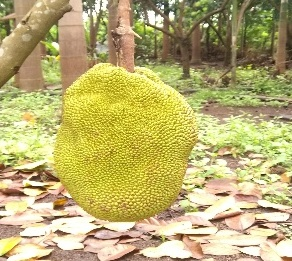Mit: (54, 63, 199, 223)
